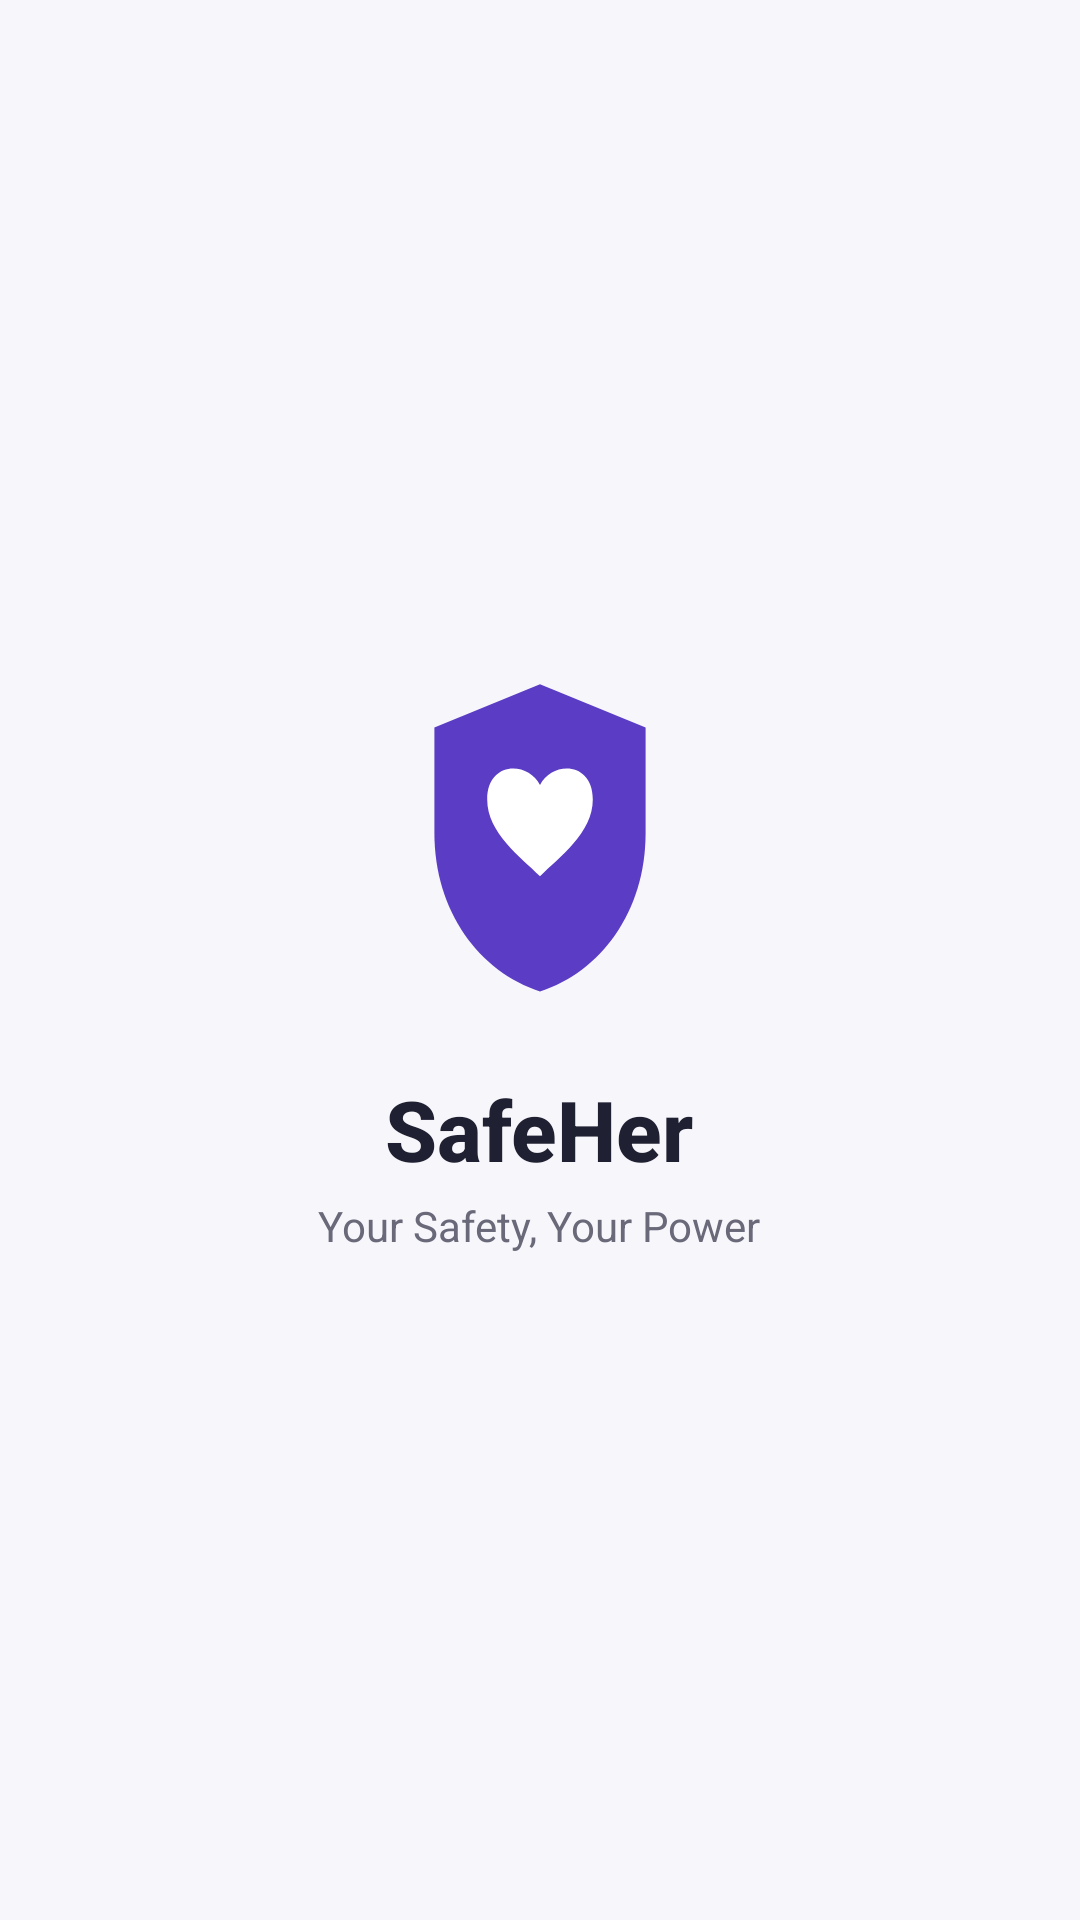

Where to tap for icons on this 1080x1920 app screen, as [x,y]:
shield: [540,838]
